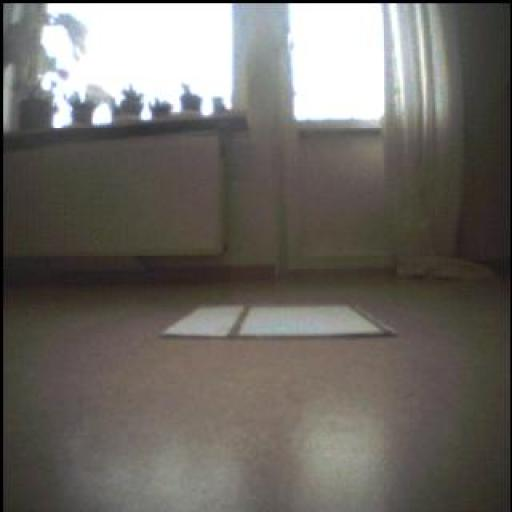Pad: (163, 302, 390, 335)
